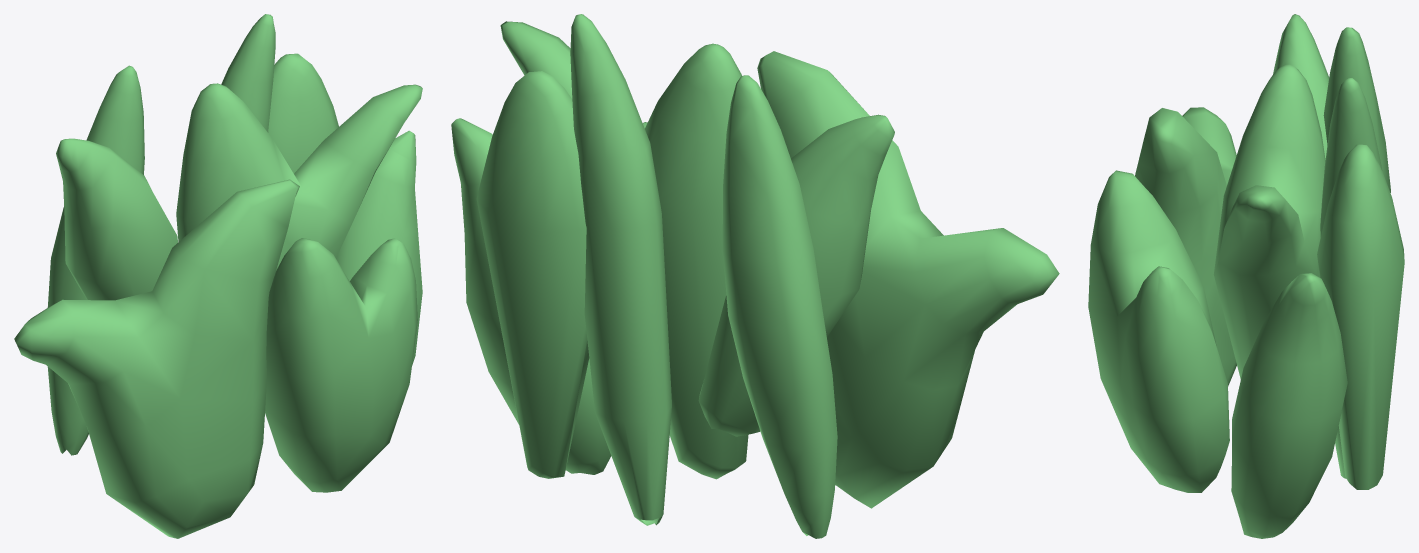
3 renders of one model, left to right at view 1: azimuth 30°, elevation 25°; view 2: azimuth 150°, elevation 25°; view 3: azimuth 270°, elevation 25°, orthographic. The views are drawn at different scales.
Parts seen in each view (by area): view 1: ZBrush_defualt_group; view 2: ZBrush_defualt_group; view 3: ZBrush_defualt_group.
Part boxes in pixels (x1=…): ZBrush_defualt_group: x1=14, y1=14, x2=422, y2=538; ZBrush_defualt_group: x1=451, y1=14, x2=1059, y2=538; ZBrush_defualt_group: x1=1088, y1=14, x2=1404, y2=538.
Size of the model in its own units: 5.86 by 5.25 by 3.43.
